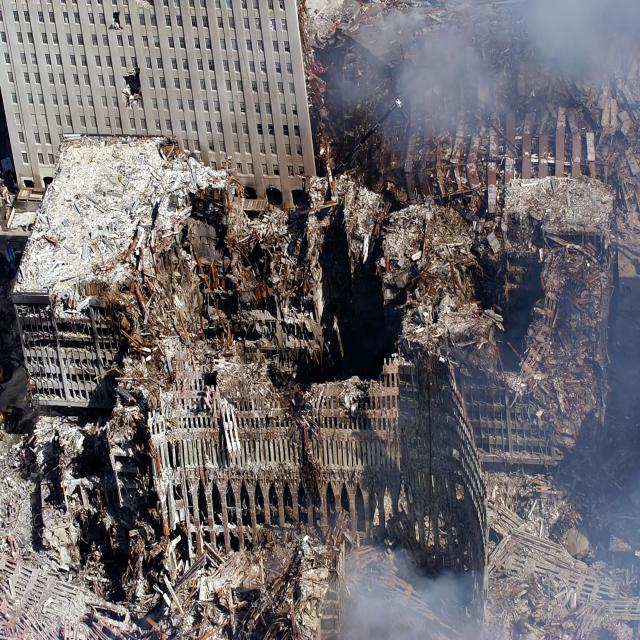collapsed_building: (20, 138, 613, 542)
